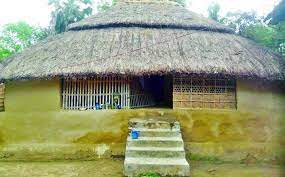Mud House: (4, 4, 279, 169)
